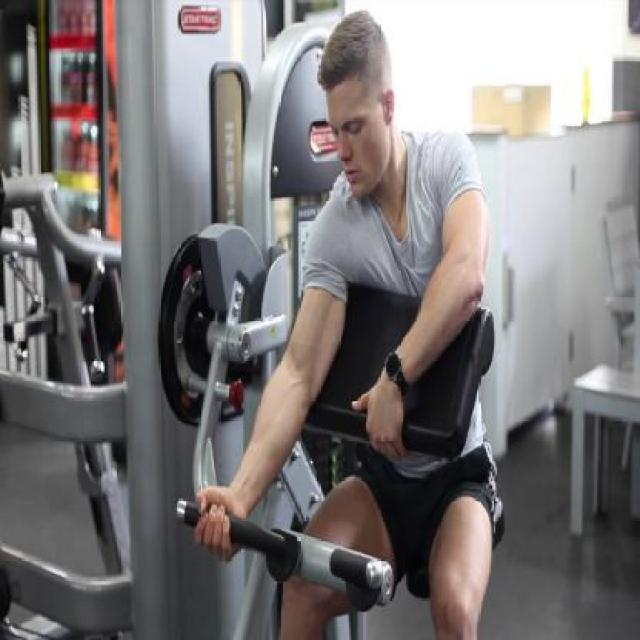arm curl machine: (158, 280, 504, 640)
